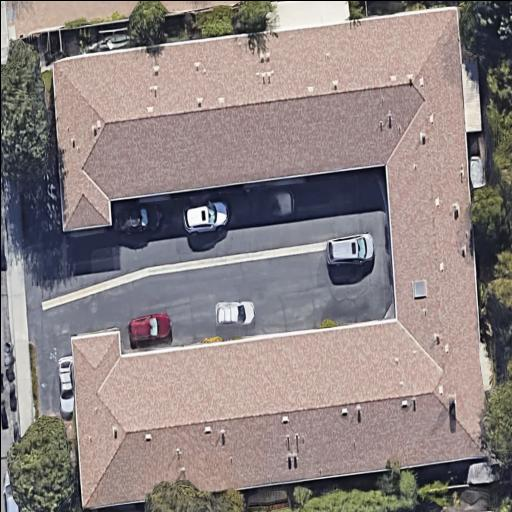Commercial-Slope-Roof: (52, 6, 487, 508)
